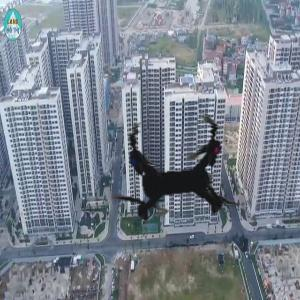drone: (58, 65, 288, 295)
